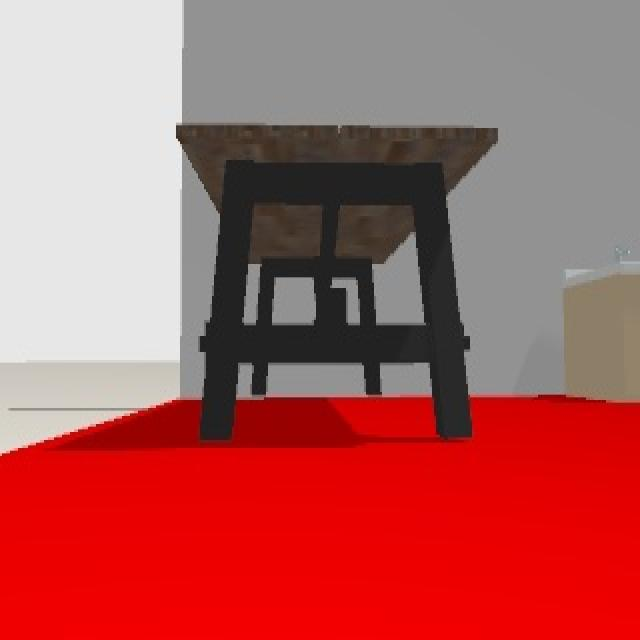dining: (174, 119, 499, 438)
